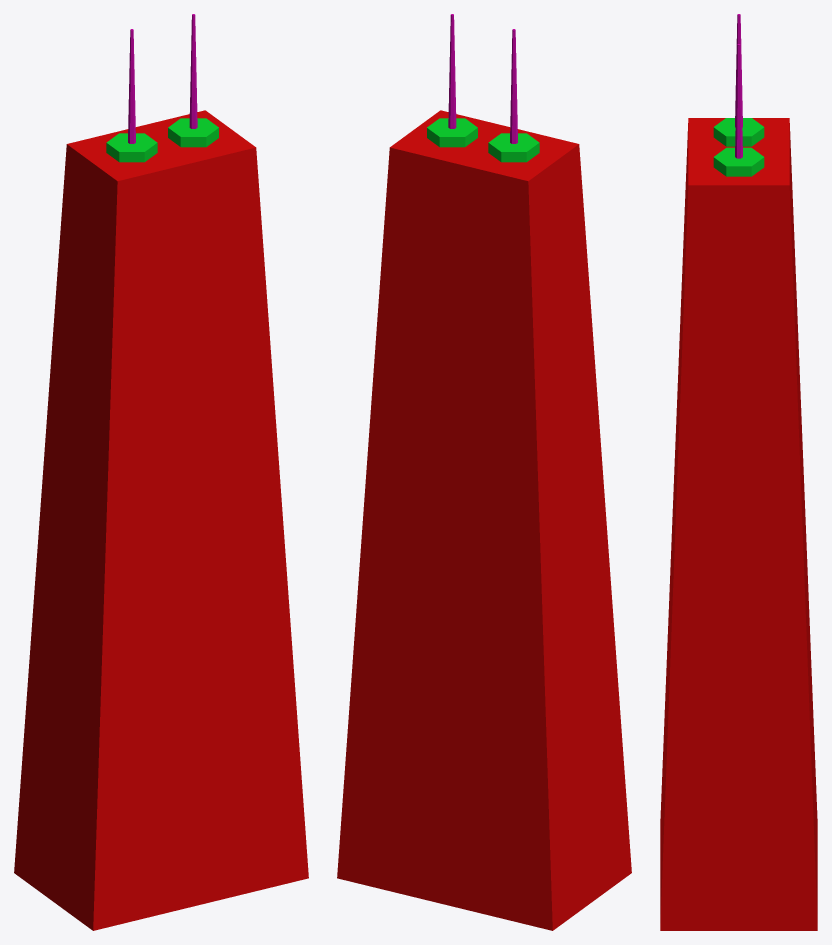
Rendered from Hancock.fbx.
The picture shows the model from 3 angles, left to right: view 1: azimuth 30°, elevation 25°; view 2: azimuth 150°, elevation 25°; view 3: azimuth 270°, elevation 25°; orthographic projection.
Visible parts, largest first — view 1: Cube.008; view 2: Cube.008; view 3: Cube.008.
Part boxes in pixels (left/top/right/bottom): Cube.008: left=14, top=14, right=308, bottom=930; Cube.008: left=337, top=14, right=631, bottom=930; Cube.008: left=660, top=14, right=817, bottom=930.
Size of the model in its own units: 765 by 2891 by 486.
